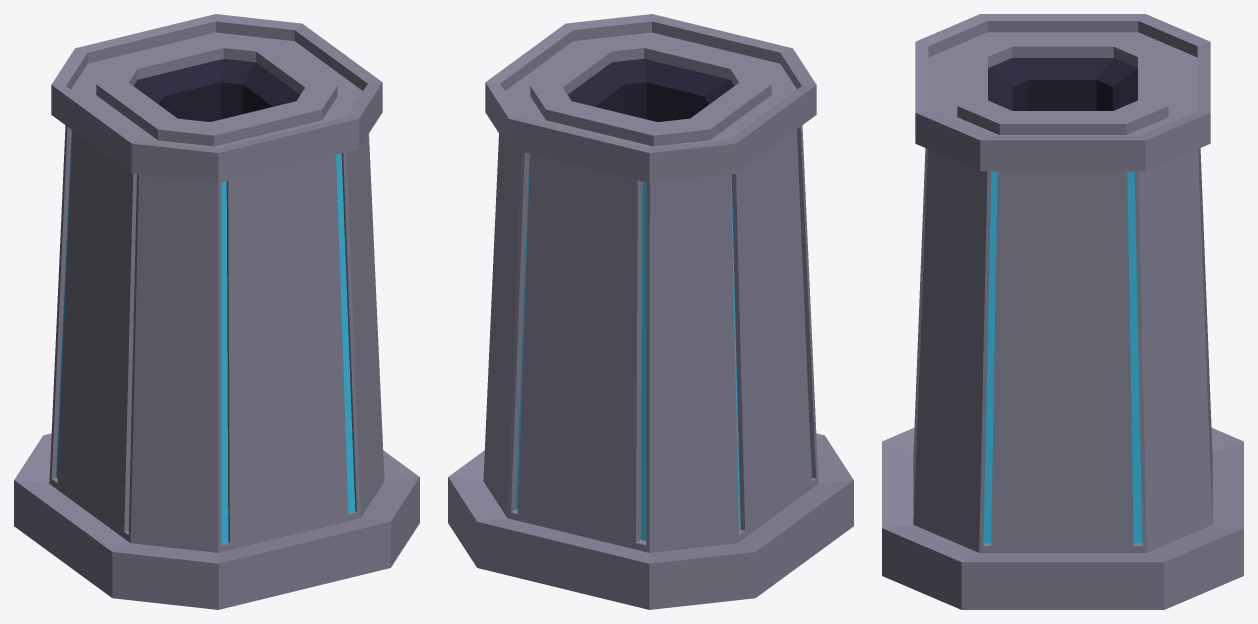
Rendered from SM_trash_can.fbx.
The picture shows the model from 3 angles, left to right: view 1: azimuth 30°, elevation 25°; view 2: azimuth 150°, elevation 25°; view 3: azimuth 270°, elevation 25°; orthographic projection. The views are drawn at different scales.
Parts seen in each view (by area): view 1: TRASH BIN; view 2: TRASH BIN; view 3: TRASH BIN.
Boxes of the visible parts, bbox=[...] form: TRASH BIN: bbox=[14, 14, 419, 609]; TRASH BIN: bbox=[448, 14, 853, 609]; TRASH BIN: bbox=[882, 14, 1243, 609].
Size of the model in its own units: 74.34 by 102 by 73.45.
